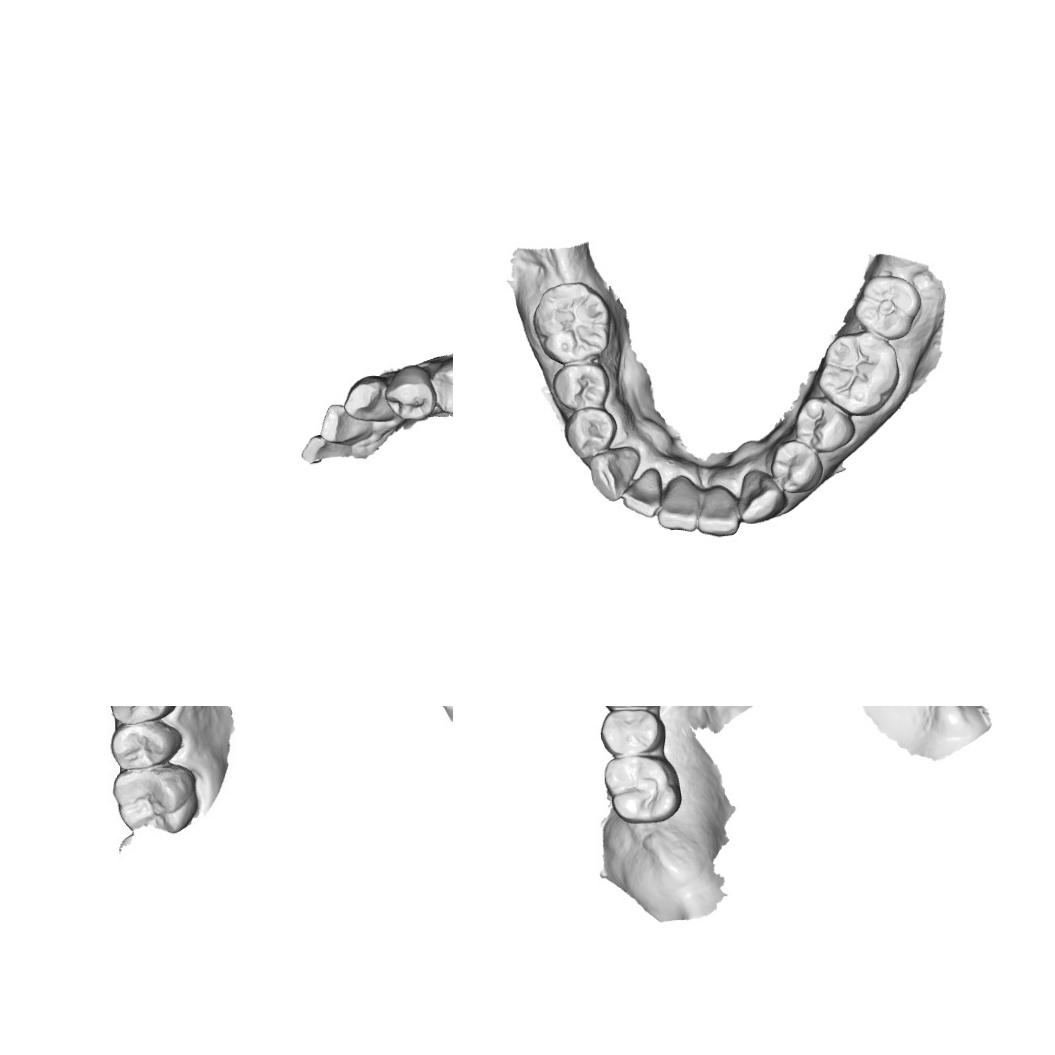canine: (587, 444, 642, 503), (737, 466, 787, 525), (342, 373, 398, 424)
incisor: (655, 474, 700, 532), (695, 483, 742, 538), (318, 402, 374, 446), (620, 466, 666, 518)
molar: (815, 330, 902, 418), (532, 280, 614, 364), (109, 764, 196, 838), (602, 754, 683, 826), (850, 274, 924, 342)
premolar: (792, 394, 858, 455), (113, 723, 182, 776), (769, 438, 826, 495), (598, 710, 666, 756), (550, 361, 612, 411), (384, 364, 438, 421), (563, 406, 619, 460), (427, 354, 453, 415), (101, 706, 181, 725)
